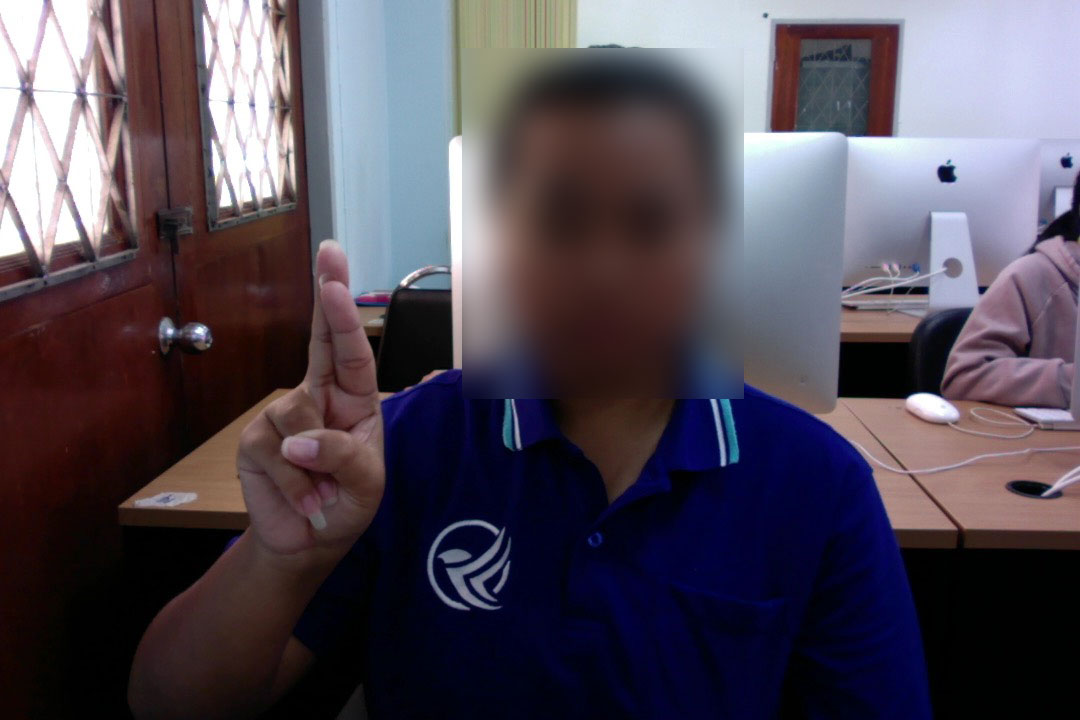rao: (221, 233, 403, 567)
